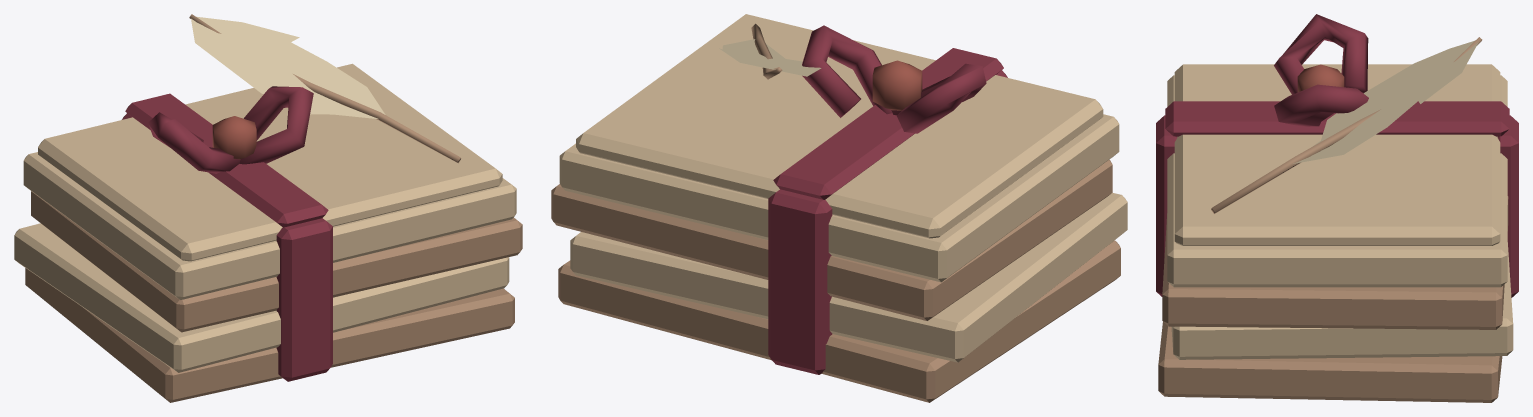
The model's file is letter_paper.glb.
3 renders of one model, left to right at view 1: azimuth 30°, elevation 25°; view 2: azimuth 150°, elevation 25°; view 3: azimuth 270°, elevation 25°, orthographic. The views are drawn at different scales.
Visible parts, largest first — view 1: letter_paper; view 2: letter_paper; view 3: letter_paper.
Part boxes in pixels (x1=…): letter_paper: x1=14, y1=14, x2=522, y2=402; letter_paper: x1=551, y1=14, x2=1127, y2=402; letter_paper: x1=1156, y1=14, x2=1518, y2=402.
Bounding box in the file's own units: 0.2181 × 0.1433 × 0.175.
